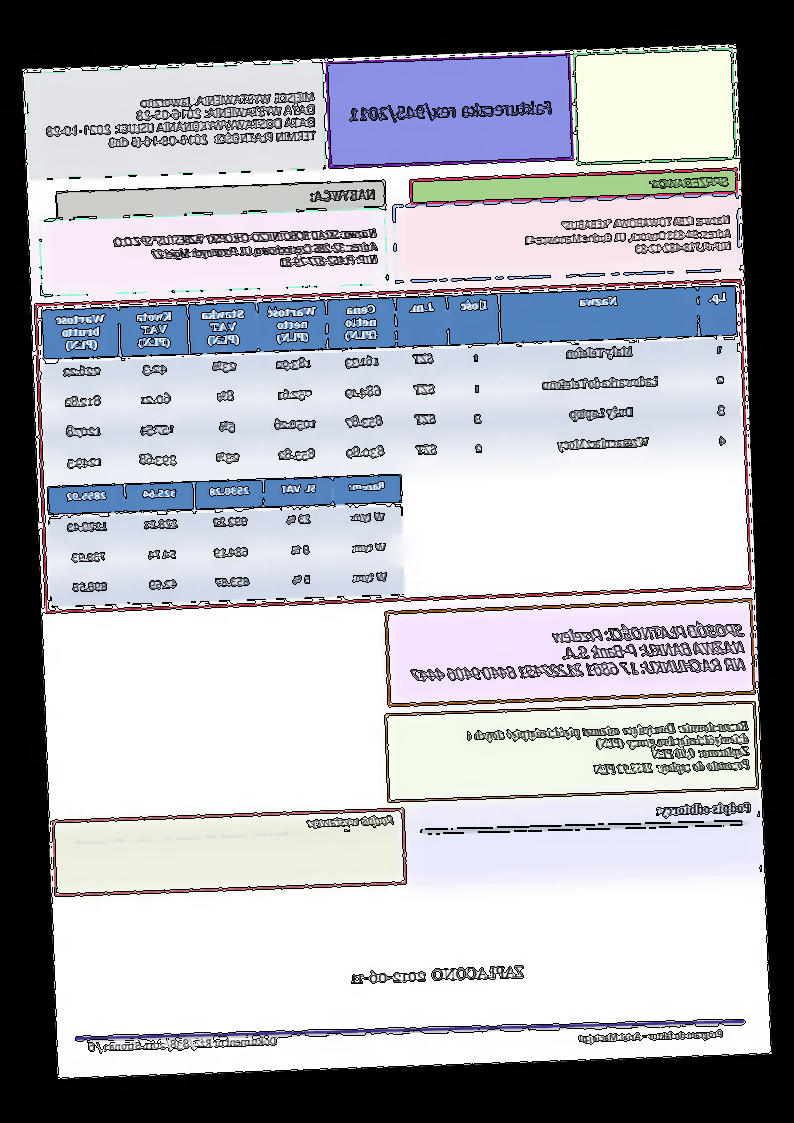Table: (41, 283, 744, 484), (46, 473, 406, 609)
TextBox: (408, 621, 747, 687), (465, 718, 753, 782), (43, 89, 318, 154), (112, 226, 381, 276), (522, 212, 735, 259), (349, 97, 556, 127), (86, 1033, 279, 1057), (349, 964, 529, 987), (577, 1027, 725, 1045), (653, 800, 754, 820), (307, 812, 396, 832), (647, 173, 732, 192), (309, 185, 378, 205)
